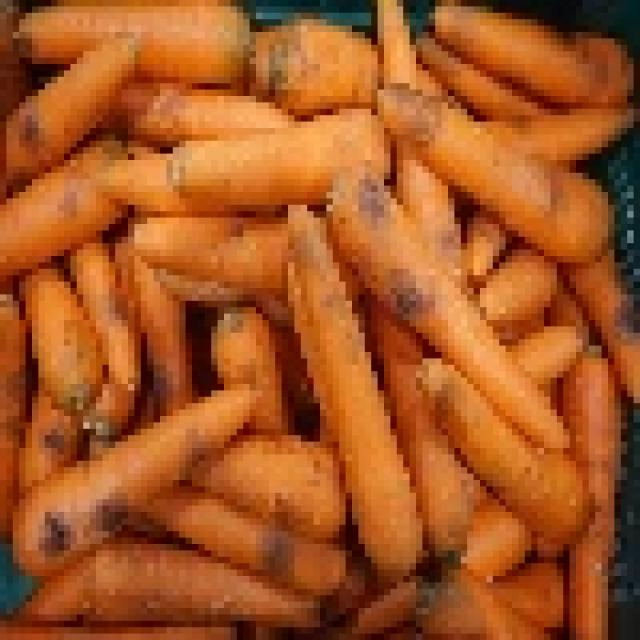Stale_Carrot: (342, 154, 447, 336), (354, 72, 496, 174), (52, 348, 165, 462), (136, 134, 241, 204), (318, 550, 401, 638), (185, 296, 250, 401), (256, 9, 307, 113), (90, 470, 142, 551), (601, 537, 640, 640), (39, 500, 86, 572), (261, 526, 308, 590)
